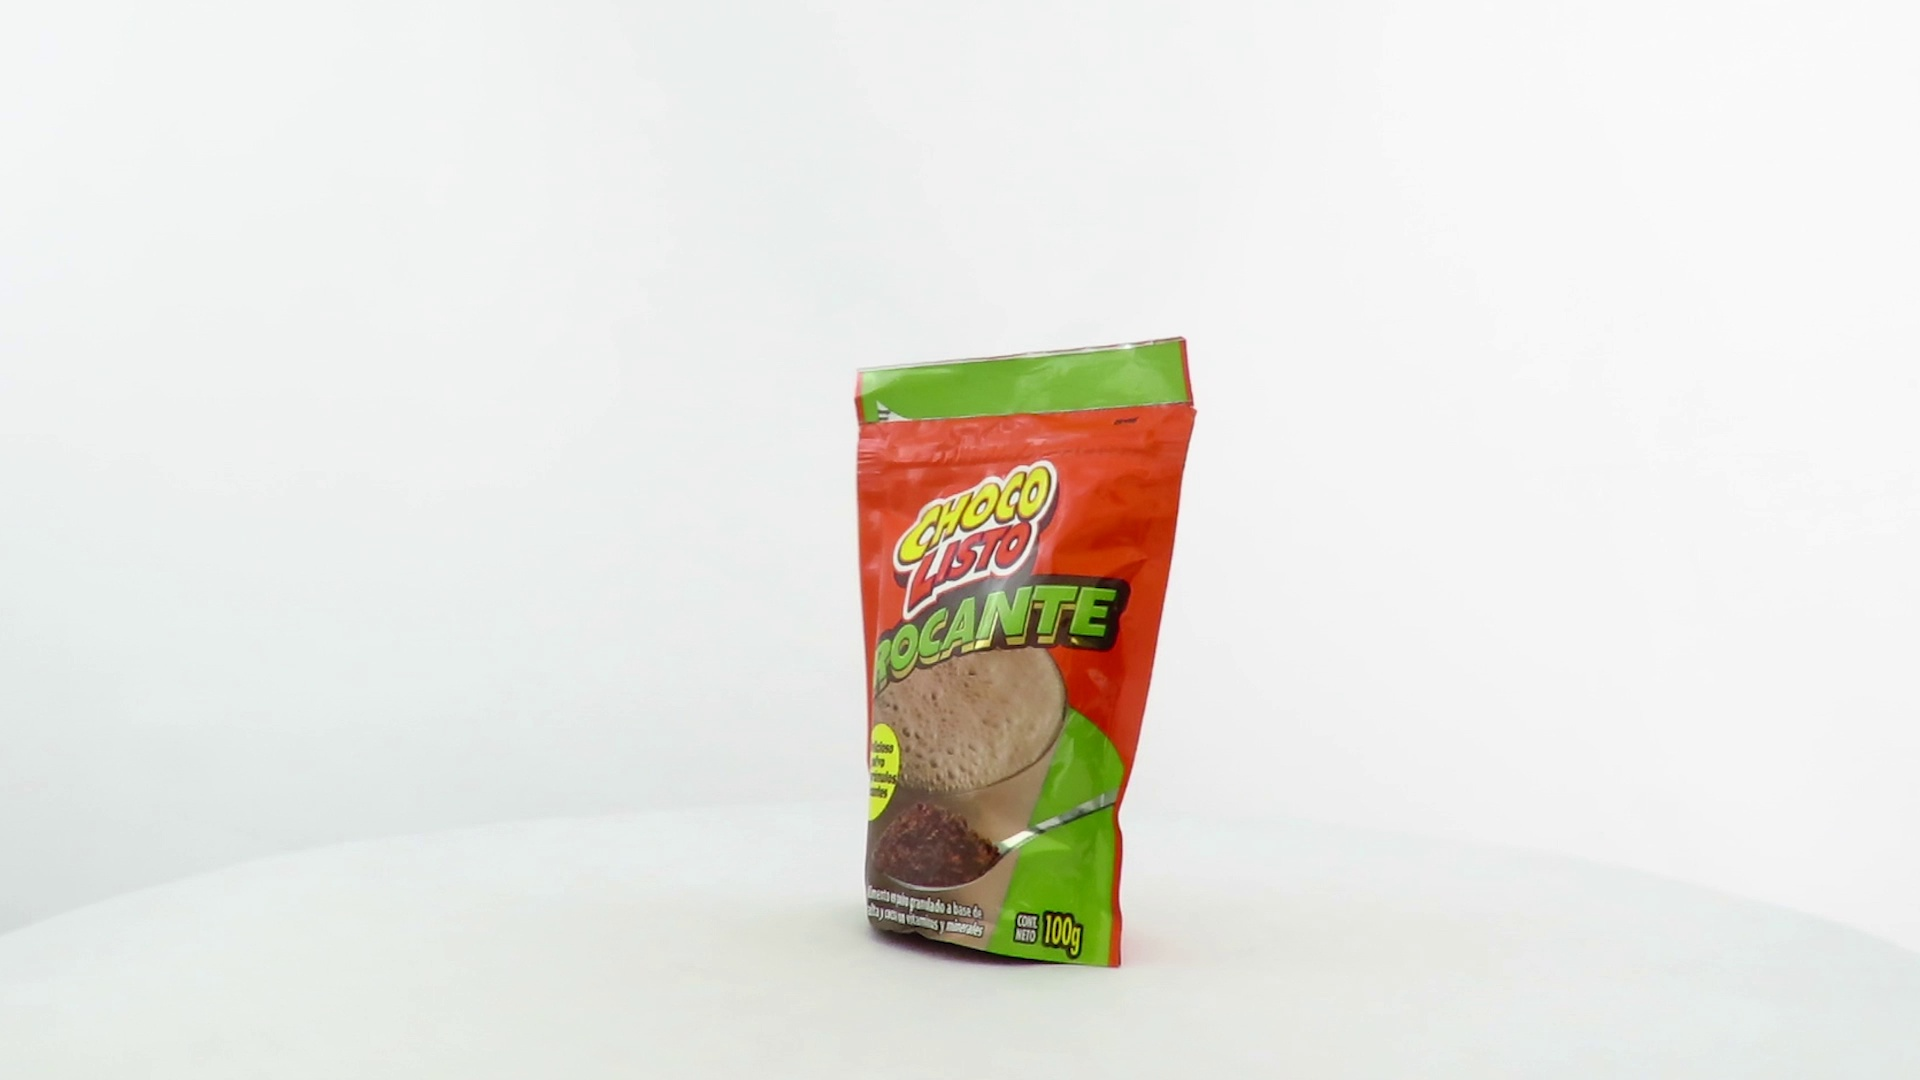COL0170102DYP10000: (849, 331, 1203, 975)
